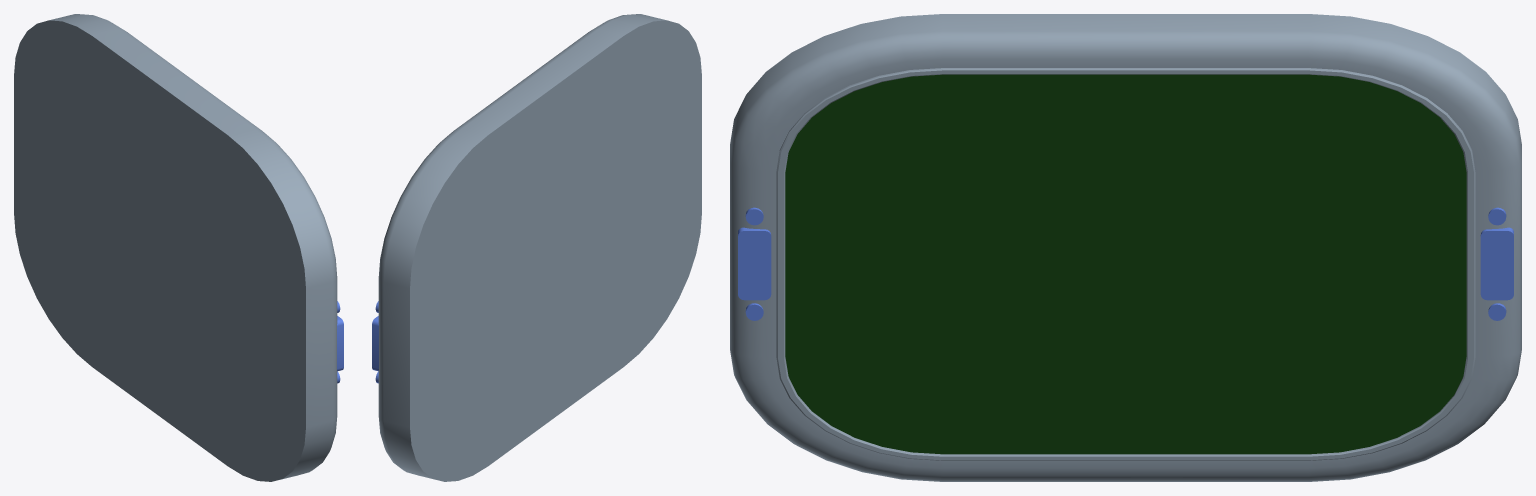
3 views of the same model, side by side, from view 1: azimuth 30°, elevation 25°; view 2: azimuth 150°, elevation 25°; view 3: azimuth 270°, elevation 25° (orthographic). The views are drawn at different scales.
Parts seen in each view (by area): view 1: Cube, Cube.001; view 2: Cube, Cube.001; view 3: Cube, Cube.001, Cylinder.
Part boxes in pixels (left/top/right/bottom): Cube: left=14, top=14, right=337, bottom=481; Cube.001: left=337, top=316, right=343, bottom=371; Cube: left=378, top=14, right=701, bottom=481; Cube.001: left=372, top=316, right=378, bottom=371; Cube: left=730, top=14, right=1521, bottom=481; Cube.001: left=738, top=227, right=1513, bottom=300; Cylinder: left=745, top=207, right=1506, bottom=320.
Size of the model in its own units: 43.88 by 340 by 543.
